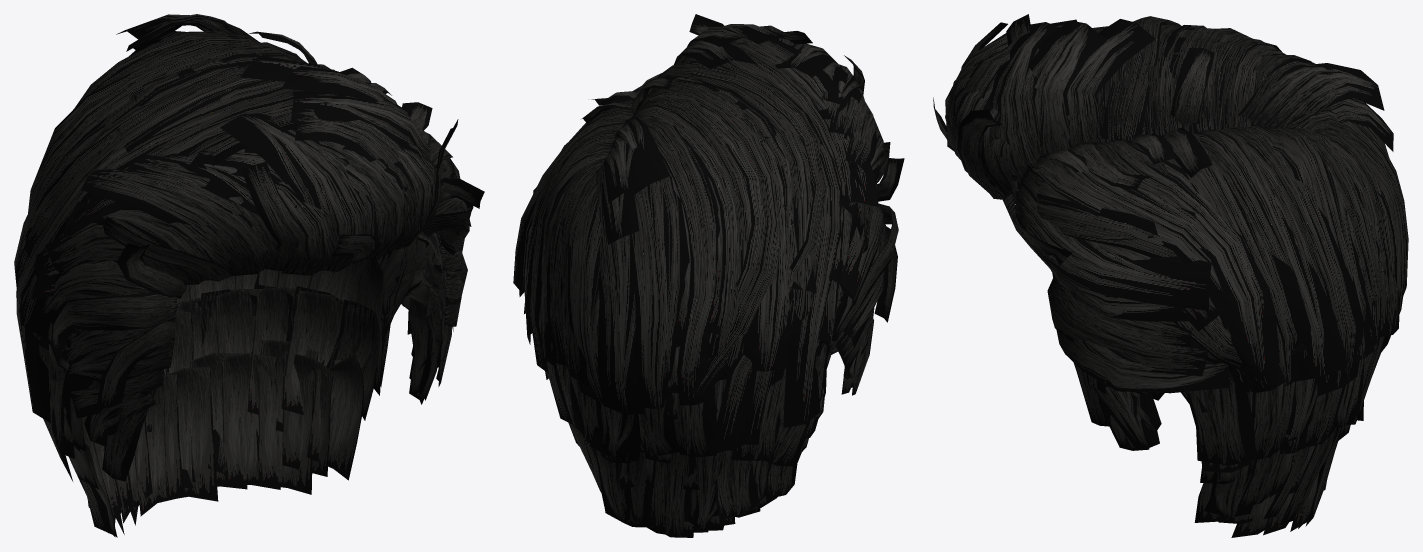
File: Hair_8.fbx
3 views of the same model, side by side, from view 1: azimuth 30°, elevation 25°; view 2: azimuth 150°, elevation 25°; view 3: azimuth 270°, elevation 25° (orthographic). The views are drawn at different scales.
Parts seen in each view (by area): view 1: avaturn_hair_1, avaturn_hair_0; view 2: avaturn_hair_1, avaturn_hair_0; view 3: avaturn_hair_1, avaturn_hair_0.
Part boxes in pixels (x1=…): avaturn_hair_1: x1=14, y1=14, x2=484, y2=537; avaturn_hair_0: x1=25, y1=148, x2=450, y2=397; avaturn_hair_1: x1=513, y1=14, x2=904, y2=537; avaturn_hair_0: x1=527, y1=123, x2=877, y2=463; avaturn_hair_1: x1=933, y1=14, x2=1408, y2=537; avaturn_hair_0: x1=1037, y1=128, x2=1392, y2=442.
Size of the model in its own units: 20.34 by 25.79 by 22.68.
